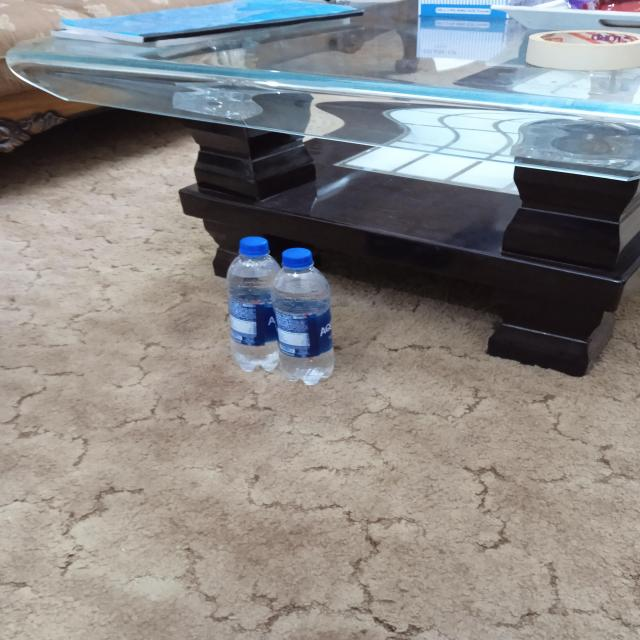Plastic: (276, 250, 334, 382), (228, 237, 275, 368)
